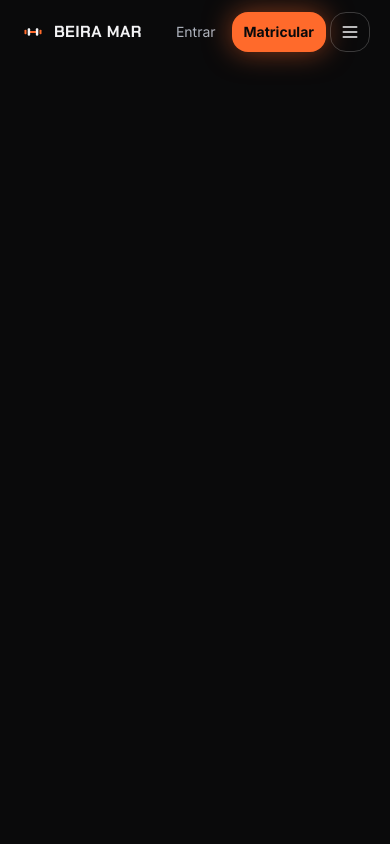
Header › opens the mobile menu when the toggle is clicked
Click the button named "abrir menu" at [350, 32], box [330,12,370,52]
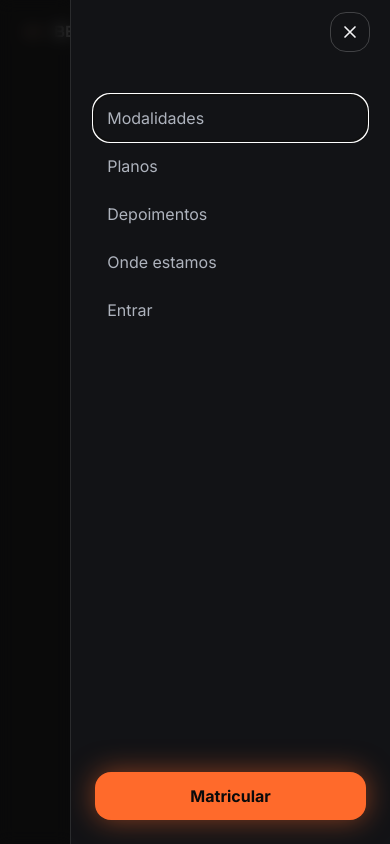
Result: the dialog is shown
Result: the button named "fechar menu" is expanded at [330,12,370,52]
